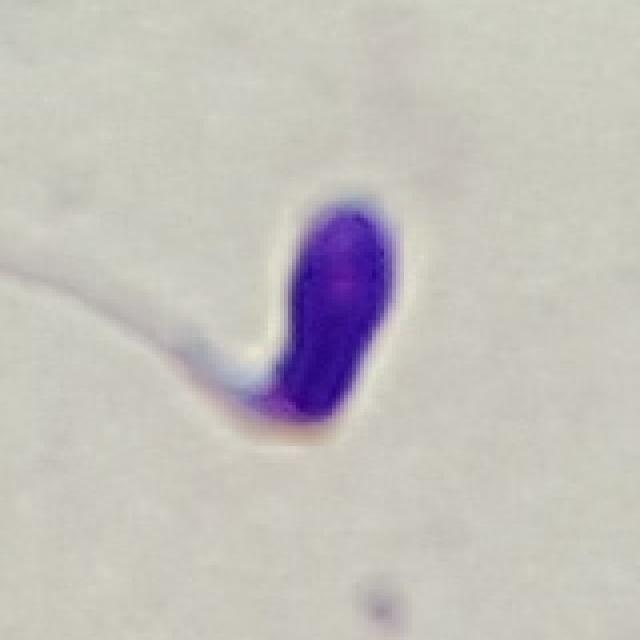abnormal sperm: (11, 197, 423, 428)
